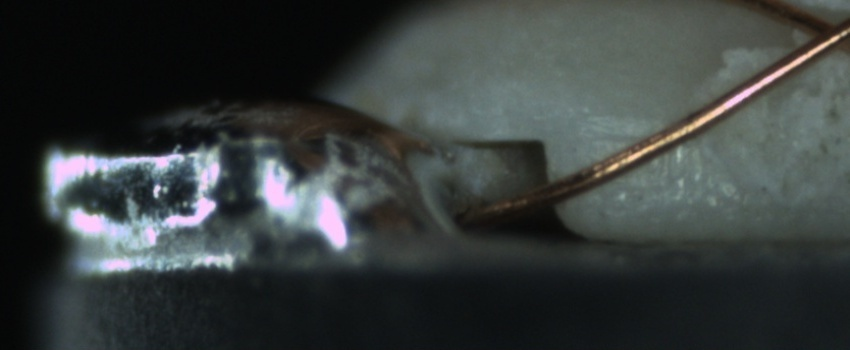CL: (782, 1, 849, 66)
DL: (581, 101, 674, 159)
